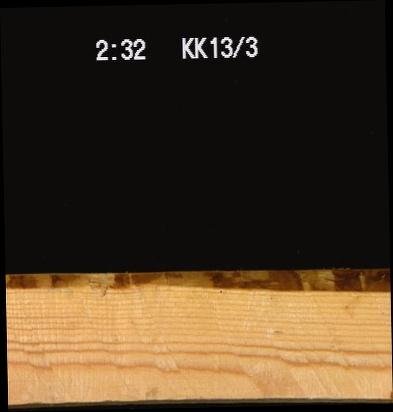wave: (5, 270, 390, 297)
